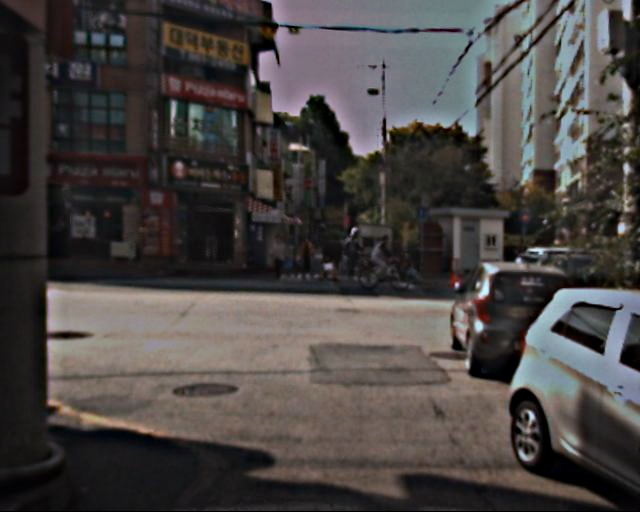person: (372, 233, 393, 283), (394, 234, 414, 283), (328, 232, 347, 278), (344, 230, 362, 275), (299, 233, 317, 277), (272, 234, 290, 277), (320, 235, 337, 277)
